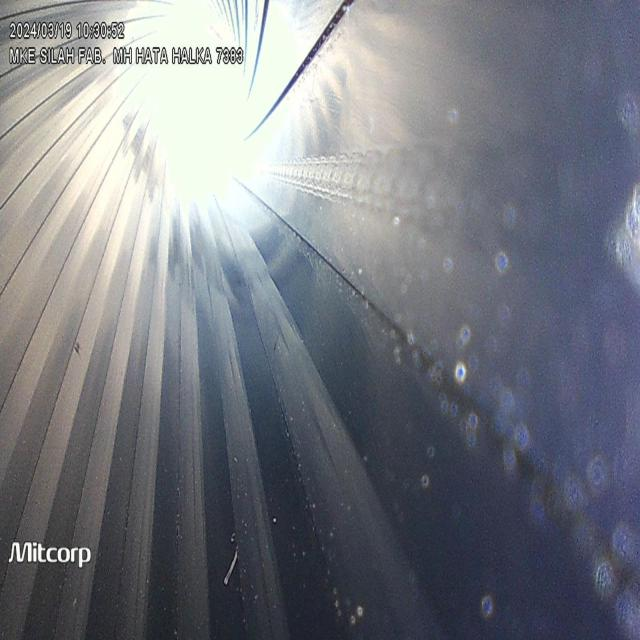hata_8.1: (280, 124, 523, 240)
